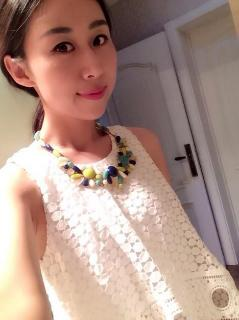vest dress: (6, 125, 239, 319)
